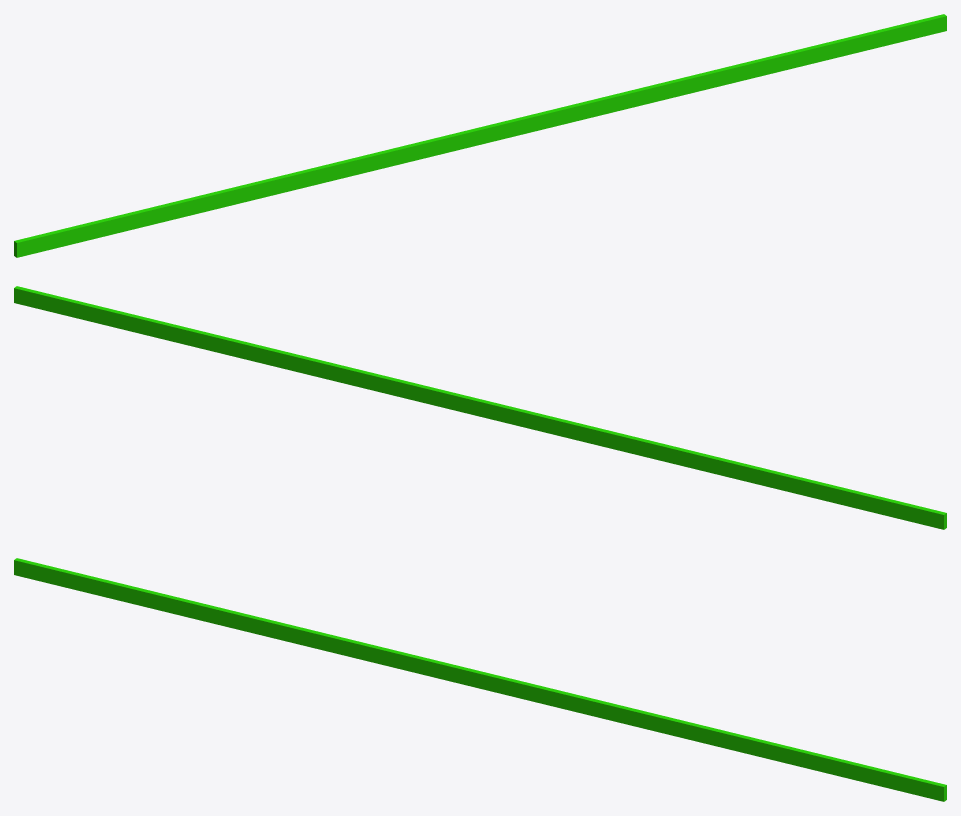
File: W_01_Wall_Int_09.fbx
3 views of the same model, one above another, from view 1: azimuth 30°, elevation 25°; view 2: azimuth 150°, elevation 25°; view 3: azimuth 330°, elevation 25° (orthographic).
Visible parts, largest first — view 1: W_01_Wall_Int_09; view 2: W_01_Wall_Int_09; view 3: W_01_Wall_Int_09.
Part boxes in pixels (x1,y1,x2,y2): W_01_Wall_Int_09: (14,14,946,257); W_01_Wall_Int_09: (14,286,946,529); W_01_Wall_Int_09: (14,558,946,801).
Bounding box in the file's own units: 1833 × 28.02 × 9.88.
